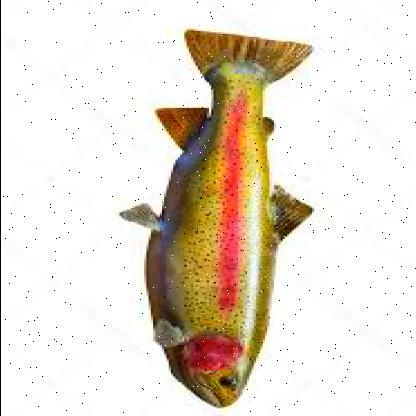fish: (120, 26, 315, 406)
